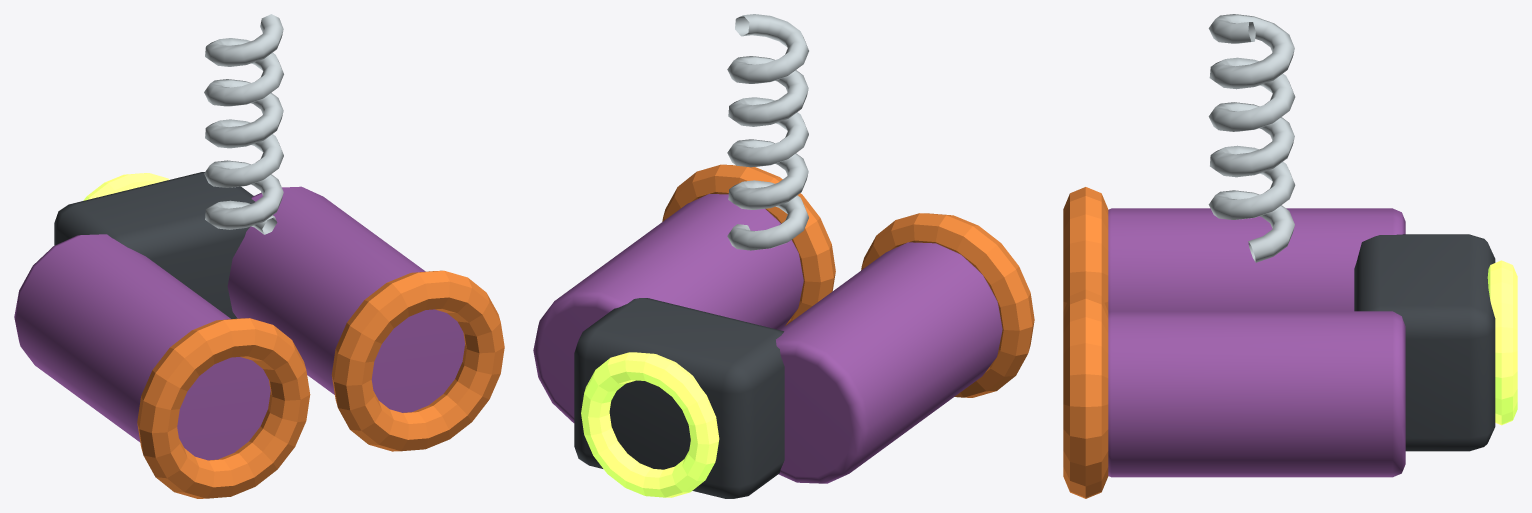
File: module-boost.glb
3 views of the same model, side by side, from view 1: azimuth 30°, elevation 25°; view 2: azimuth 150°, elevation 25°; view 3: azimuth 270°, elevation 25° (orthographic). The views are drawn at different scales.
Visible parts, largest first — view 1: Boost canister, Boost canister.001, Boost nozzle.001, Boost nozzle, Universal connector.006, Boost exposed spring, Standard attachment ring.006; view 2: Boost canister, Universal connector.006, Boost canister.001, Boost exposed spring, Standard attachment ring.006, Boost nozzle, Boost nozzle.001; view 3: Boost canister.001, Boost canister, Universal connector.006, Boost exposed spring, Boost nozzle.001, Boost nozzle, Standard attachment ring.006.
Part boxes in pixels (box(x1,y1,x2,y2)): Boost canister: box(14, 234, 270, 460); Boost canister.001: box(227, 186, 464, 412); Boost nozzle.001: box(331, 270, 504, 451); Boost nozzle: box(137, 318, 310, 498); Universal connector.006: box(54, 172, 254, 318); Boost exposed spring: box(204, 14, 283, 234); Standard attachment ring.006: box(83, 173, 169, 200); Boost canister: box(776, 242, 1002, 483); Universal connector.006: box(574, 298, 784, 498); Boost canister.001: box(533, 193, 803, 422); Boost exposed spring: box(727, 14, 808, 250); Standard attachment ring.006: box(581, 352, 719, 497); Boost nozzle: box(861, 213, 1034, 397); Boost nozzle.001: box(662, 164, 835, 325); Boost canister.001: box(1108, 311, 1405, 477); Boost canister: box(1108, 208, 1405, 312); Universal connector.006: box(1354, 234, 1495, 451); Boost exposed spring: box(1208, 14, 1295, 262); Boost nozzle.001: box(1063, 289, 1108, 498); Boost nozzle: box(1063, 187, 1108, 311); Standard attachment ring.006: box(1487, 260, 1517, 425).
Bounding box in the file's own units: 0.71 × 0.7424 × 0.71.
